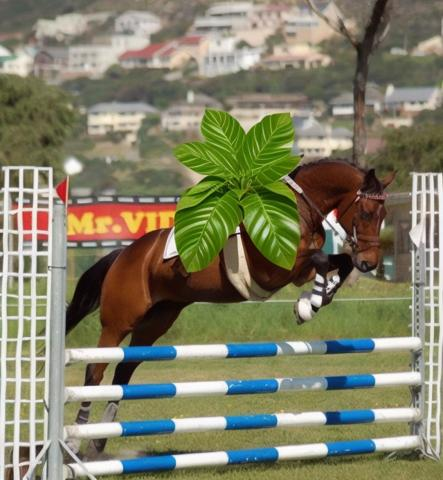horse: (65, 156, 401, 459)
pottedplant: (174, 101, 299, 272)
